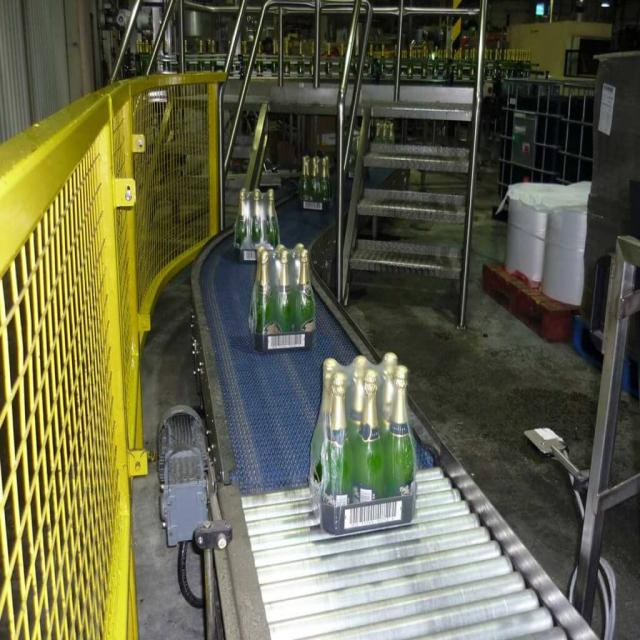bottle: (317, 370, 354, 535), (383, 363, 417, 521), (352, 367, 386, 506), (257, 244, 281, 346), (294, 246, 316, 335)
